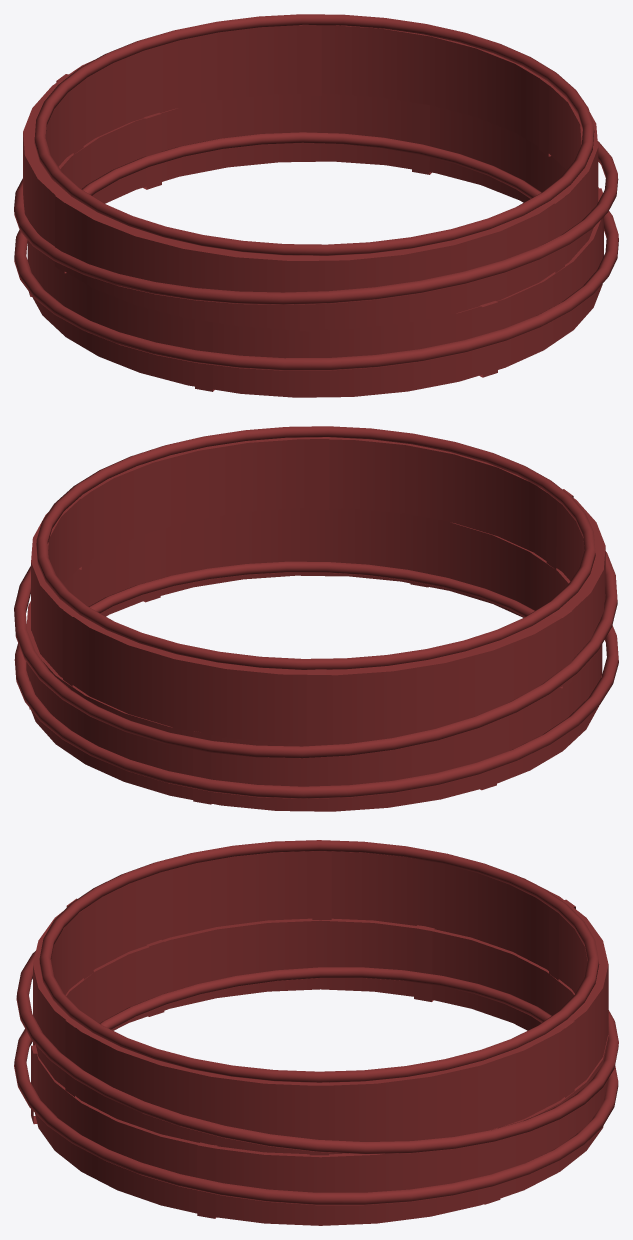
Rendered from SM_WiresPack01.fbx.
The picture shows the model from 3 angles, top to bottom: view 1: azimuth 30°, elevation 25°; view 2: azimuth 150°, elevation 25°; view 3: azimuth 270°, elevation 25°; orthographic projection.
Visible parts, largest first — view 1: WiresPack01; view 2: WiresPack01; view 3: WiresPack01.
Boxes of the visible parts, x1,y1,x2,y2 form: WiresPack01: (14, 14, 618, 397); WiresPack01: (14, 426, 618, 811); WiresPack01: (14, 840, 618, 1225).
Bounding box in the file's own units: 83.81 × 22.81 × 83.83.
